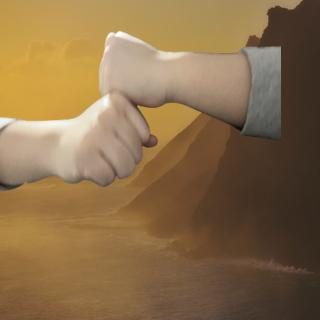CAREFUL: (22, 31, 255, 187)
